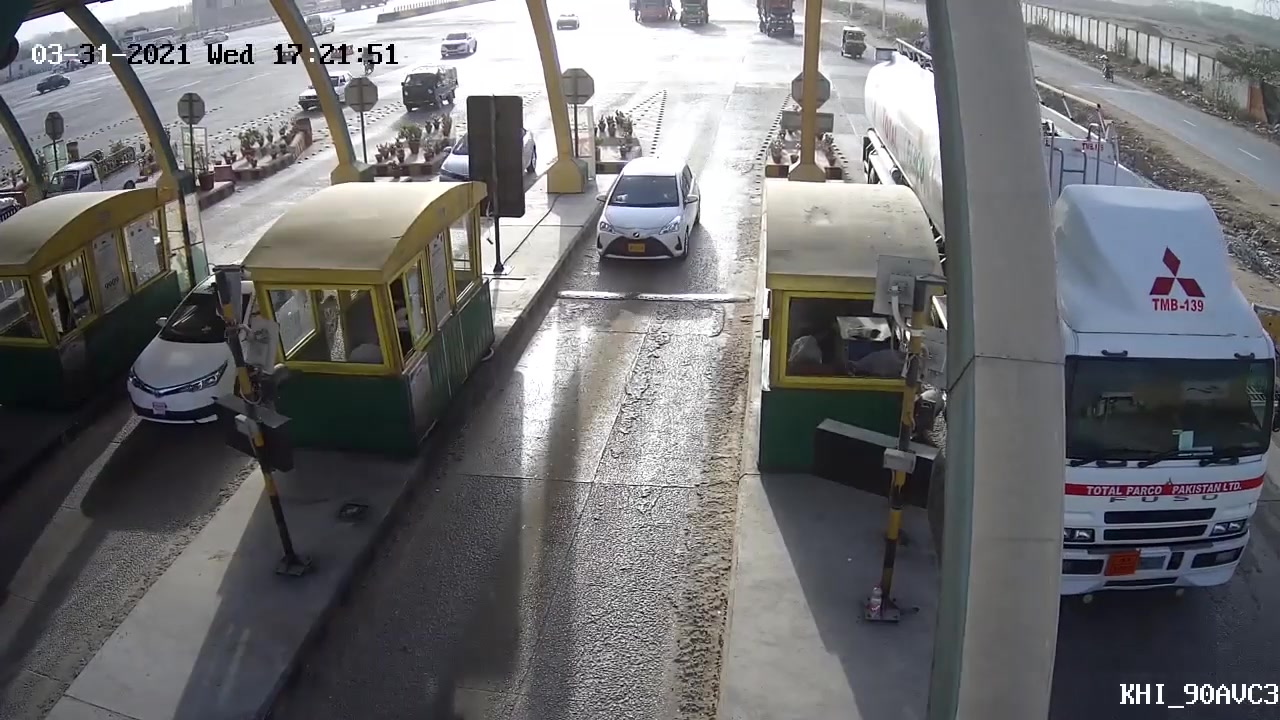F1: (589, 154, 706, 277)
